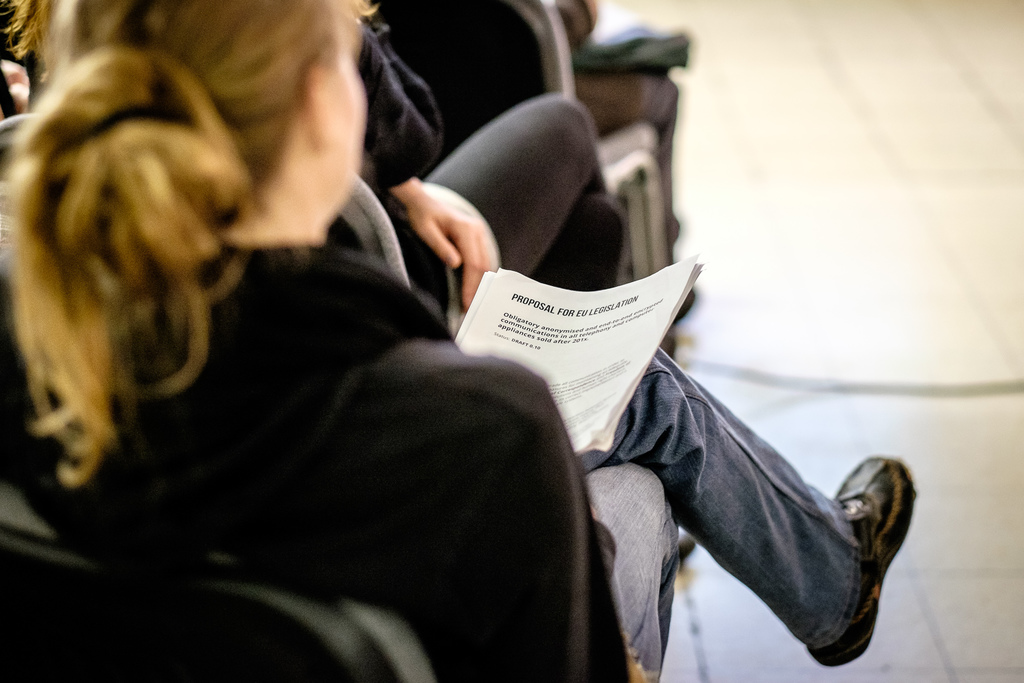Footwear: (805, 452, 915, 666)
